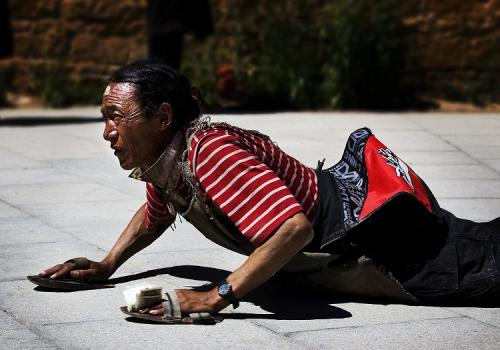fall: (38, 45, 500, 337)
